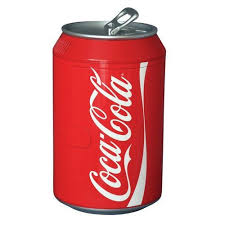Drink can: (53, 13, 170, 212)
